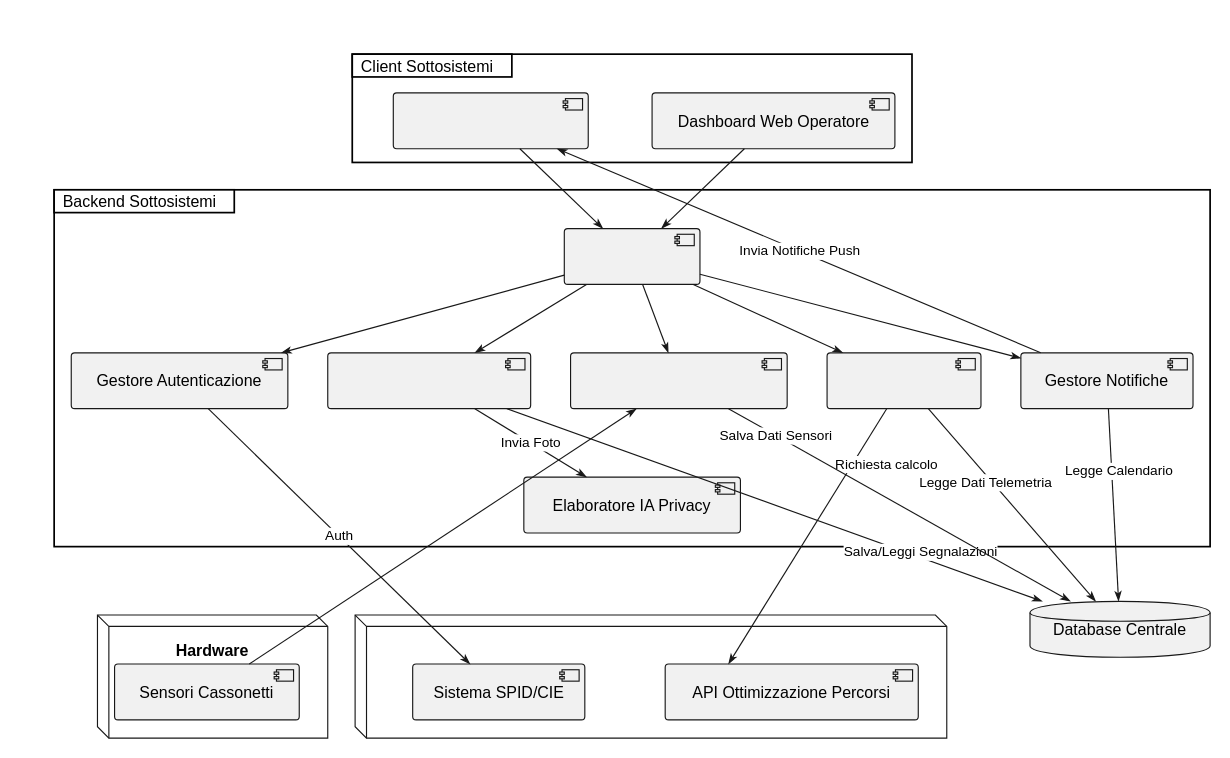
Image size: 1230x758. Some labels were removed from this diagram. Here are the shapes that lost their labels. From the top down, the box of each, then its label:
(392, 92, 588, 149): App Mobile Cittadino
(563, 227, 700, 284): API Gateway
(327, 352, 531, 409): Gestore Segnalazioni
(569, 352, 787, 409): Telemetry Gateway
(826, 352, 981, 409): Routing Engine
(354, 614, 947, 738): Sistemi Esterni
